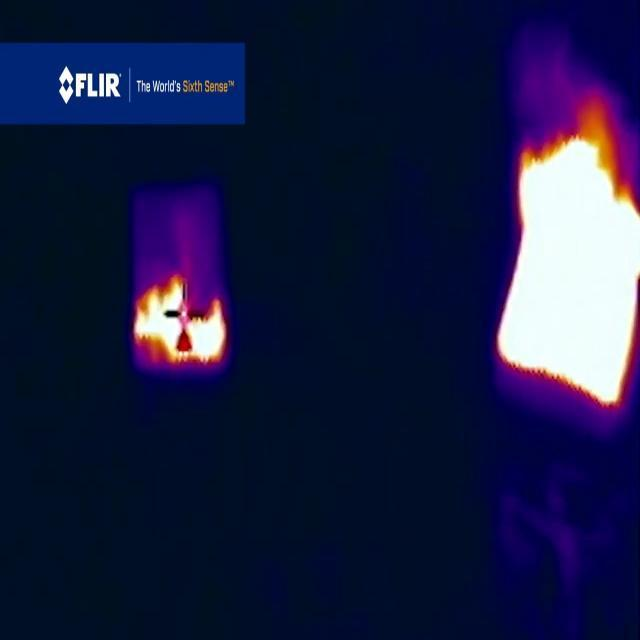fire: (497, 133, 640, 408), (134, 274, 231, 366)
